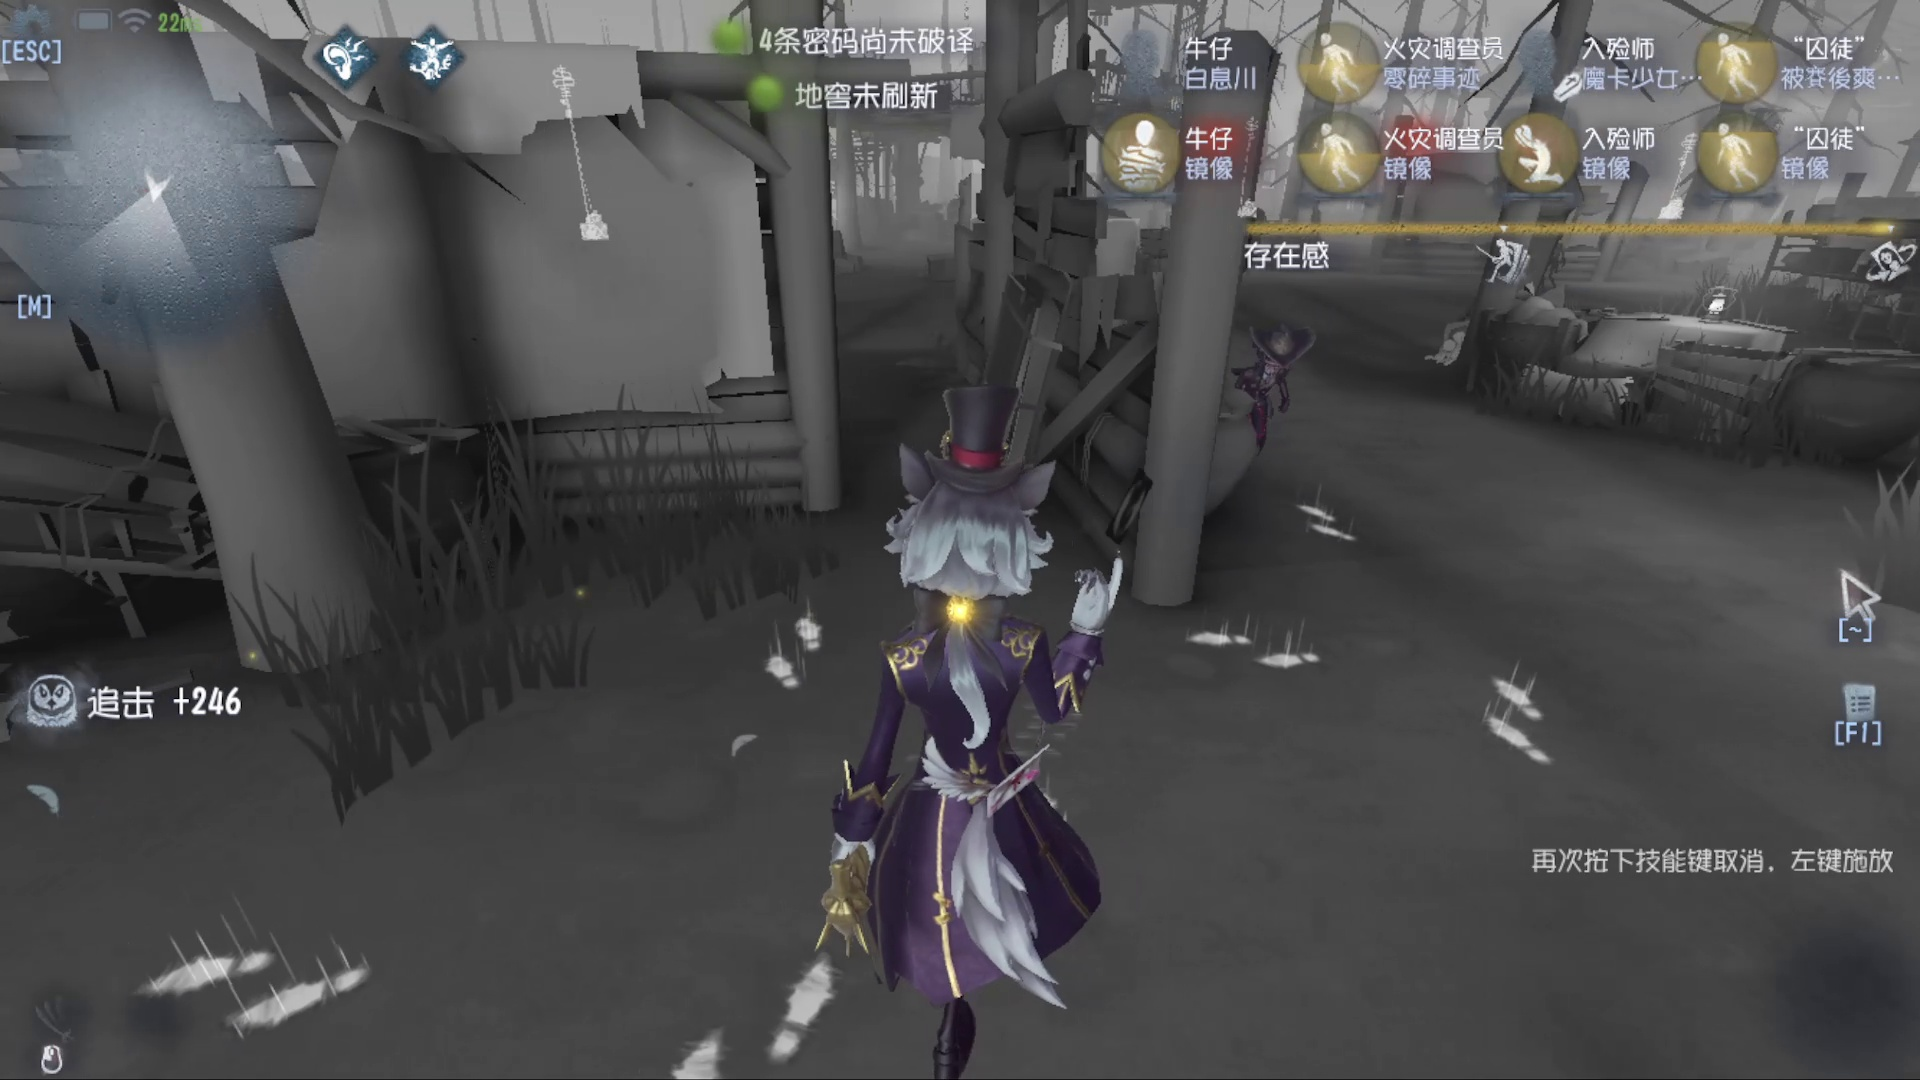密码机: (525, 55, 636, 270)
木板: (919, 243, 1076, 510)
求生者: (1232, 297, 1328, 463)
